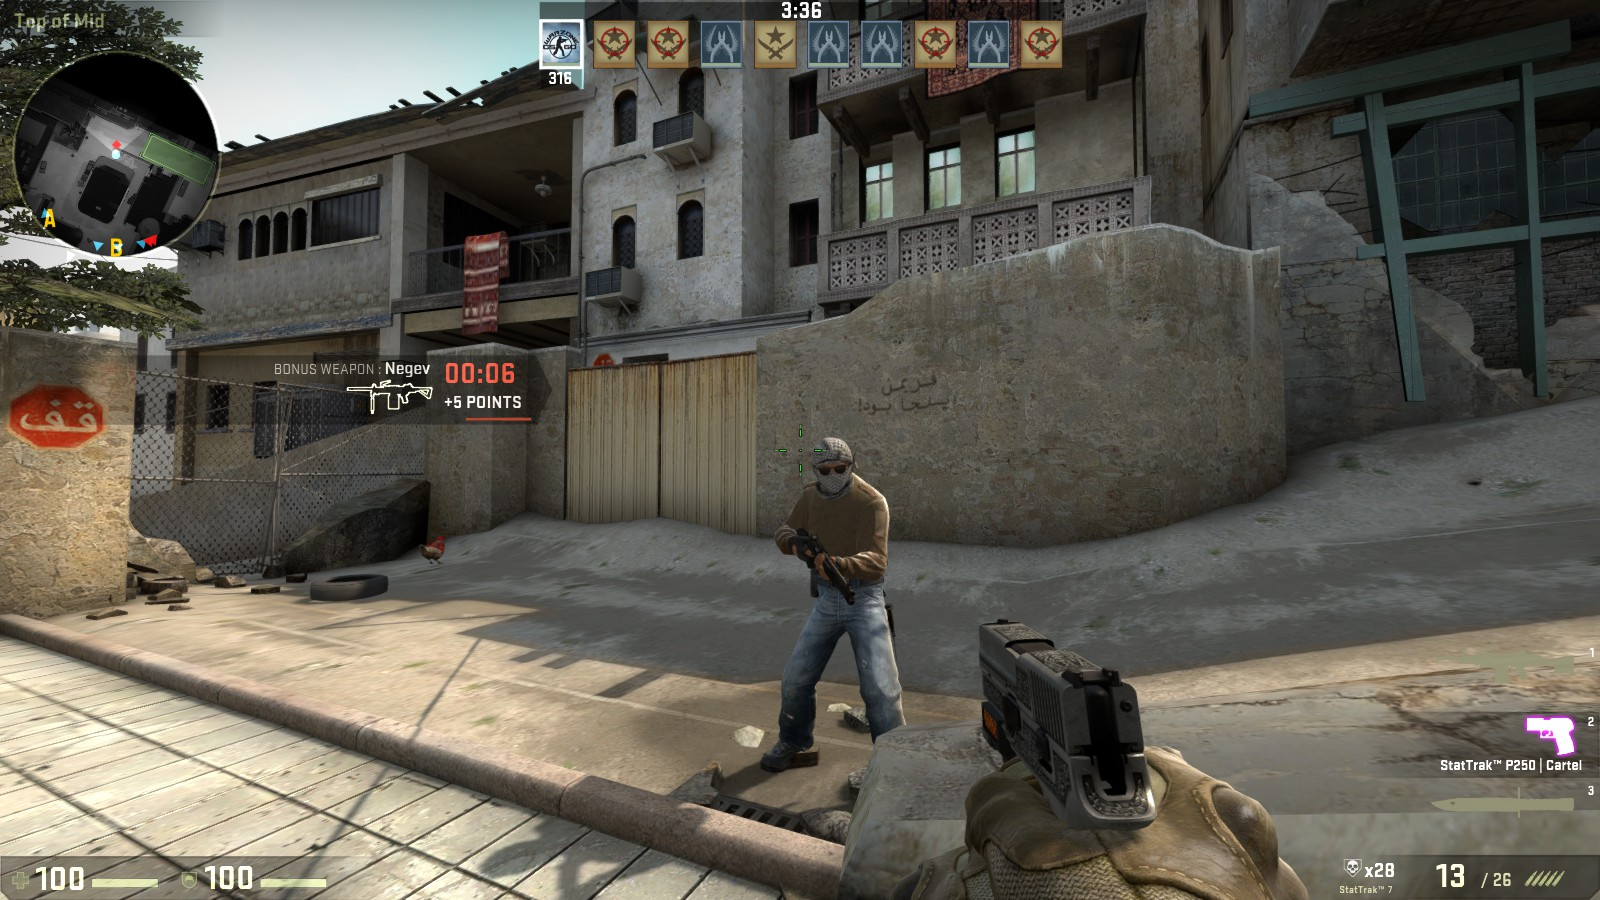t: (775, 431, 908, 765)
th: (801, 436, 862, 498)
